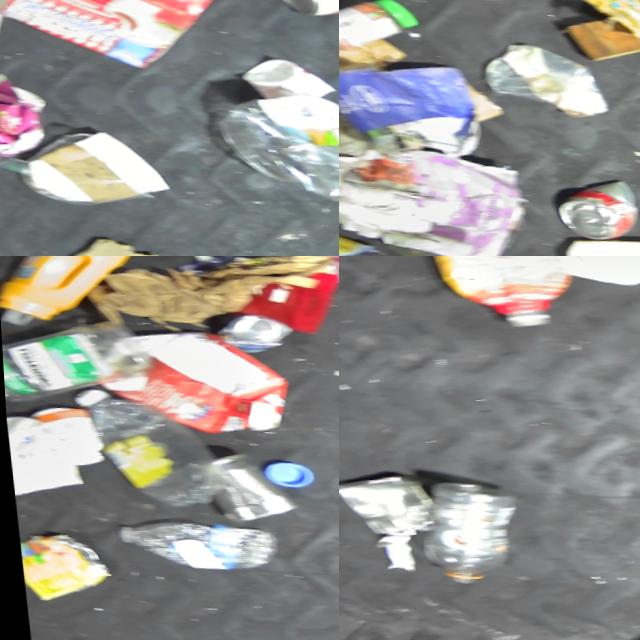can: (196, 441, 301, 524), (339, 465, 427, 537), (545, 166, 635, 235)
milk_jug: (2, 409, 81, 503)
non_white_jug: (0, 256, 144, 335), (0, 58, 50, 162)
plastic_bottle: (68, 378, 226, 509), (410, 472, 521, 587), (111, 506, 278, 574)
